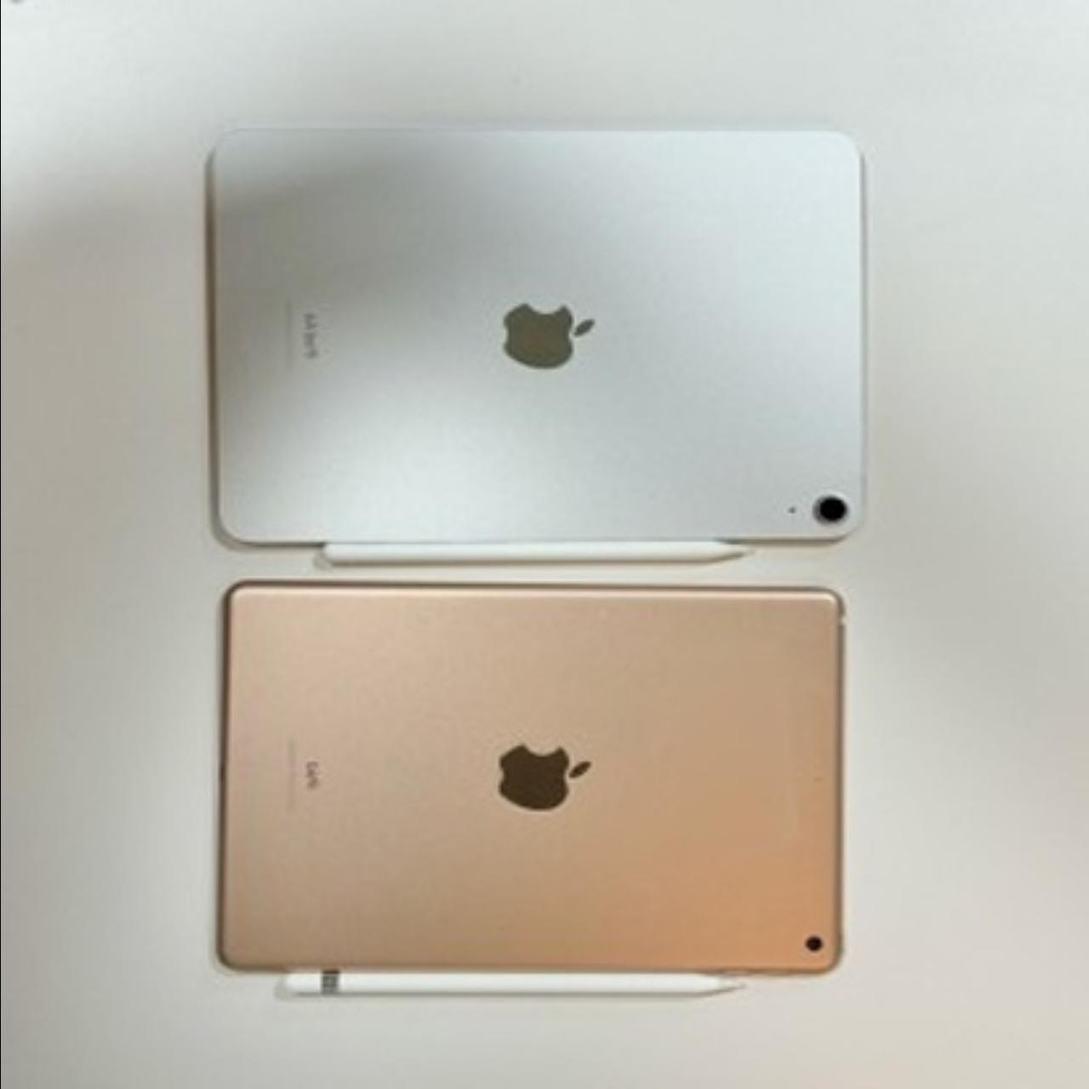Tablet_PC: (197, 116, 872, 584), (205, 568, 859, 1007)
